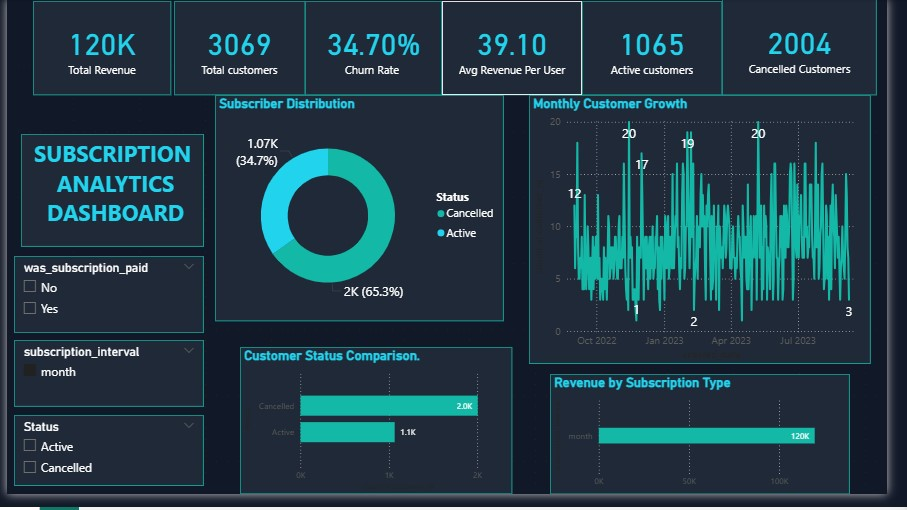

The dashboard page shown, as its layout file describes it:
{"tool":"powerbi","page":{"name":"Page 1","canvas":[1280,720],"ordinal":0},"visuals":[{"type":"lineChart","title":"Monthly Customer Growth","fields":{"Category":["dataset.created_date"],"Y":["CountNonNull(dataset.customer_id)"]},"box":[759.3,139.6,497.5,391.3],"z":0},{"type":"donutChart","title":"Subscriber Distribution","fields":{"Category":["dataset.Status"],"Y":["CountNonNull(dataset.customer_id)"]},"box":[302.5,139.6,420.4,328.7],"z":1000},{"type":"barChart","title":"Revenue by Subscription Type","fields":{"Category":["dataset.subscription_interval"],"Y":["Sum(dataset.subscription_cost)"]},"box":[789.8,545.5,436.4,174.5],"z":2000},{"type":"slicer","fields":{"Values":["dataset.Status"]},"box":[10.2,605.1,276.4,103.3],"z":3000},{"type":"slicer","fields":{"Values":["dataset.subscription_interval"]},"box":[10.2,496,276.4,97.5],"z":4000},{"type":"slicer","fields":{"Values":["dataset.was_subscription_paid"]},"box":[10.2,373.8,276.4,112],"z":5000},{"type":"card","fields":{"Values":["Sum(dataset.subscription_cost)"]},"box":[37.8,2.9,200.7,136.7],"z":6000},{"type":"card","fields":{"Values":["CountNonNull(dataset.customer_id)"]},"box":[242.9,2.9,190.5,136.7],"z":7000},{"type":"card","fields":{"Values":["CountNonNull(dataset.customer_id)"]},"box":[1040,0,225.5,139.6],"z":8000},{"type":"card","fields":{"Values":["CountNonNull(dataset.customer_id)"]},"box":[836.4,2.9,203.6,136.7],"z":9000},{"type":"card","fields":{"Values":["Active Customers.Churn Rate %"]},"box":[433.5,2.9,199.3,136.7],"z":10000},{"type":"card","fields":{"Values":["Active Customers.ARPU"]},"box":[632.7,2.9,203.6,136.7],"z":11000},{"type":"textbox","box":[20.4,196.4,266.2,164.4],"z":12000},{"type":"clusteredBarChart","title":"Customer Status Comparison.","fields":{"Category":["dataset.Status"],"Y":["CountNonNull(dataset.customer_id)"]},"box":[338.9,506.2,395.6,213.8],"z":13000}]}

Visuals, with their boxes in screenshot pixels (x1, y1, x2, y2), scaled from the page's 1280x720 canvas onto the 907x510 screenshot:
"Monthly Customer Growth" lineChart: select_region(538, 99, 891, 376)
"Subscriber Distribution" donutChart: select_region(214, 99, 512, 332)
"Revenue by Subscription Type" barChart: select_region(560, 386, 869, 509)
slicer - dataset.Status: select_region(7, 429, 203, 502)
slicer - dataset.subscription_interval: select_region(7, 351, 203, 420)
slicer - dataset.was_subscription_paid: select_region(7, 265, 203, 344)
card - Sum(dataset.subscription_cost): select_region(27, 2, 169, 99)
card - CountNonNull(dataset.customer_id): select_region(172, 2, 307, 99)
card - CountNonNull(dataset.customer_id): select_region(737, 0, 897, 99)
card - CountNonNull(dataset.customer_id): select_region(593, 2, 737, 99)
card - Active Customers.Churn Rate %: select_region(307, 2, 448, 99)
card - Active Customers.ARPU: select_region(448, 2, 593, 99)
textbox: select_region(14, 139, 203, 256)
"Customer Status Comparison." clusteredBarChart: select_region(240, 359, 520, 509)
